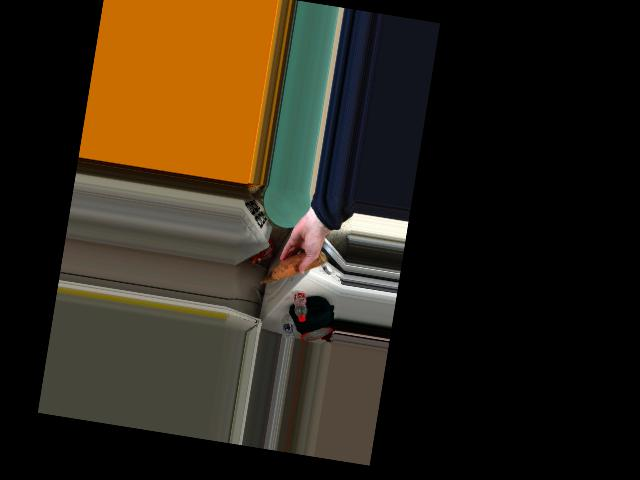sweet_potato: (275, 248, 313, 286)
